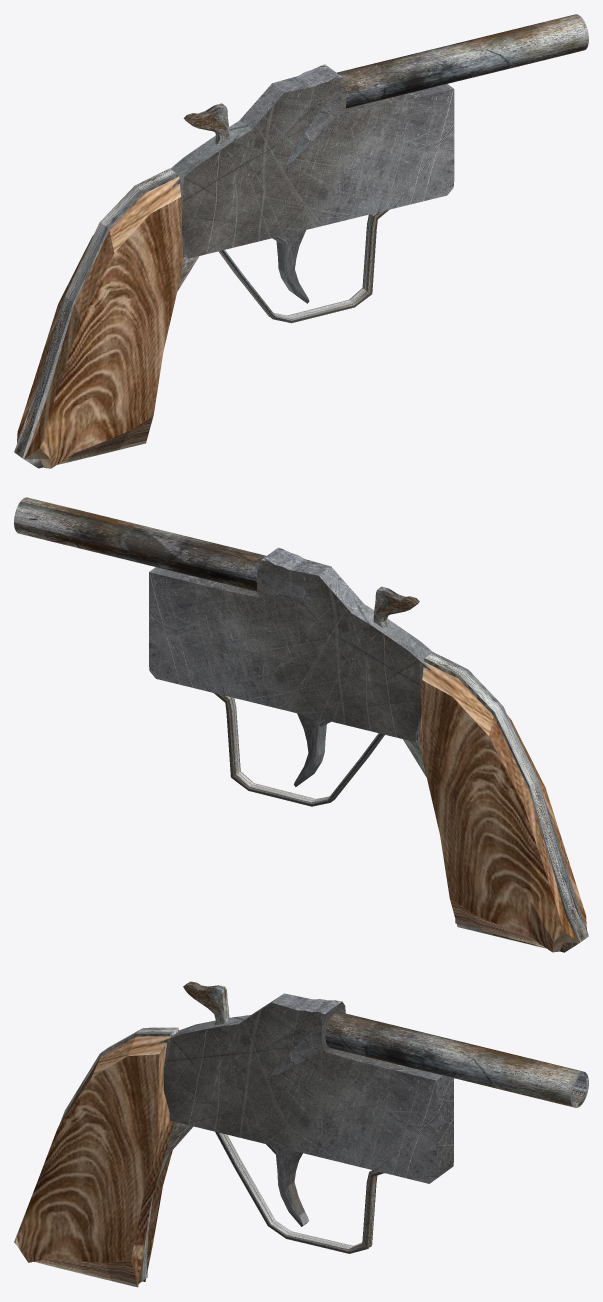
Rendered from echiza.obj.
The picture shows the model from 3 angles, top to bottom: view 1: azimuth 30°, elevation 25°; view 2: azimuth 150°, elevation 25°; view 3: azimuth 330°, elevation 25°; orthographic projection.
Visible parts, largest first — view 1: Cubo, cacha, cañon, Cubo.001, Cubo.002, gatillo.001, MARTILLO; view 2: Cubo, cacha, cañon, Cubo.001, Cubo.002, gatillo.001, MARTILLO; view 3: Cubo, cacha, cañon, Cubo.002, Cubo.001, gatillo.001, MARTILLO.
Part boxes in pixels (x1=…): Cubo: x1=170, y1=64, x2=454, y2=258; cacha: x1=17, y1=176, x2=183, y2=468; cañon: x1=337, y1=14, x2=588, y2=108; Cubo.001: x1=14, y1=168, x2=199, y2=468; Cubo.002: x1=218, y1=209, x2=389, y2=323; gatillo.001: x1=272, y1=230, x2=309, y2=303; MARTILLO: x1=183, y1=103, x2=229, y2=144; Cubo: x1=149, y1=547, x2=432, y2=741; cacha: x1=420, y1=662, x2=586, y2=952; cañon: x1=14, y1=497, x2=266, y2=591; Cubo.001: x1=403, y1=652, x2=588, y2=952; Cubo.002: x1=214, y1=693, x2=384, y2=806; gatillo.001: x1=294, y1=713, x2=330, y2=786; MARTILLO: x1=373, y1=586, x2=419, y2=628; Cubo: x1=159, y1=993, x2=453, y2=1183; cacha: x1=15, y1=1030, x2=178, y2=1287; cañon: x1=325, y1=1011, x2=588, y2=1107; Cubo.002: x1=215, y1=1131, x2=384, y2=1253; Cubo.001: x1=14, y1=1027, x2=193, y2=1283; gatillo.001: x1=266, y1=1144, x2=309, y2=1226; MARTILLO: x1=183, y1=981, x2=229, y2=1025.
Size of the model in its own units: 4.66 by 2.57 by 0.4186.
